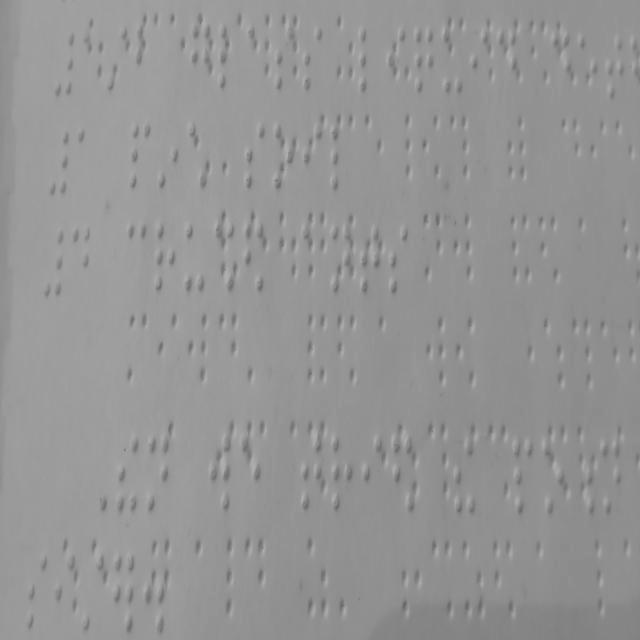braiile: (356, 426, 384, 518), (596, 432, 624, 520), (204, 428, 232, 513), (237, 427, 262, 516), (298, 424, 322, 516), (126, 214, 150, 302), (24, 549, 48, 636), (328, 115, 352, 200), (540, 431, 564, 516), (152, 213, 175, 300), (53, 549, 76, 636), (146, 431, 170, 514), (183, 216, 206, 299), (510, 434, 534, 513), (331, 220, 354, 302), (330, 431, 352, 516), (300, 114, 322, 198), (358, 216, 380, 300), (386, 216, 408, 300), (70, 220, 92, 302), (300, 218, 323, 296), (190, 16, 212, 97), (129, 116, 151, 197), (356, 20, 379, 96), (439, 20, 462, 96), (74, 122, 96, 201), (274, 18, 296, 95), (495, 22, 517, 99), (550, 26, 572, 102), (80, 22, 102, 97), (218, 22, 240, 97), (576, 27, 598, 102), (301, 18, 322, 96), (603, 23, 624, 101), (244, 116, 265, 194), (412, 24, 435, 95), (245, 22, 267, 94), (135, 22, 155, 98), (470, 22, 490, 98), (273, 118, 293, 194), (386, 22, 406, 94)
